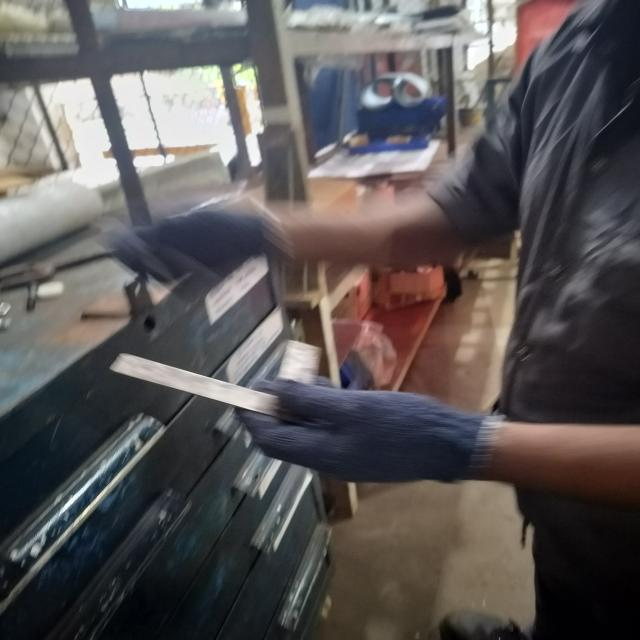Gloves-Detection: (237, 375, 476, 483), (103, 211, 289, 287)
